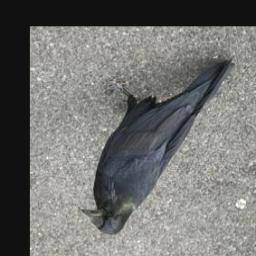Crow: (79, 57, 236, 236)
